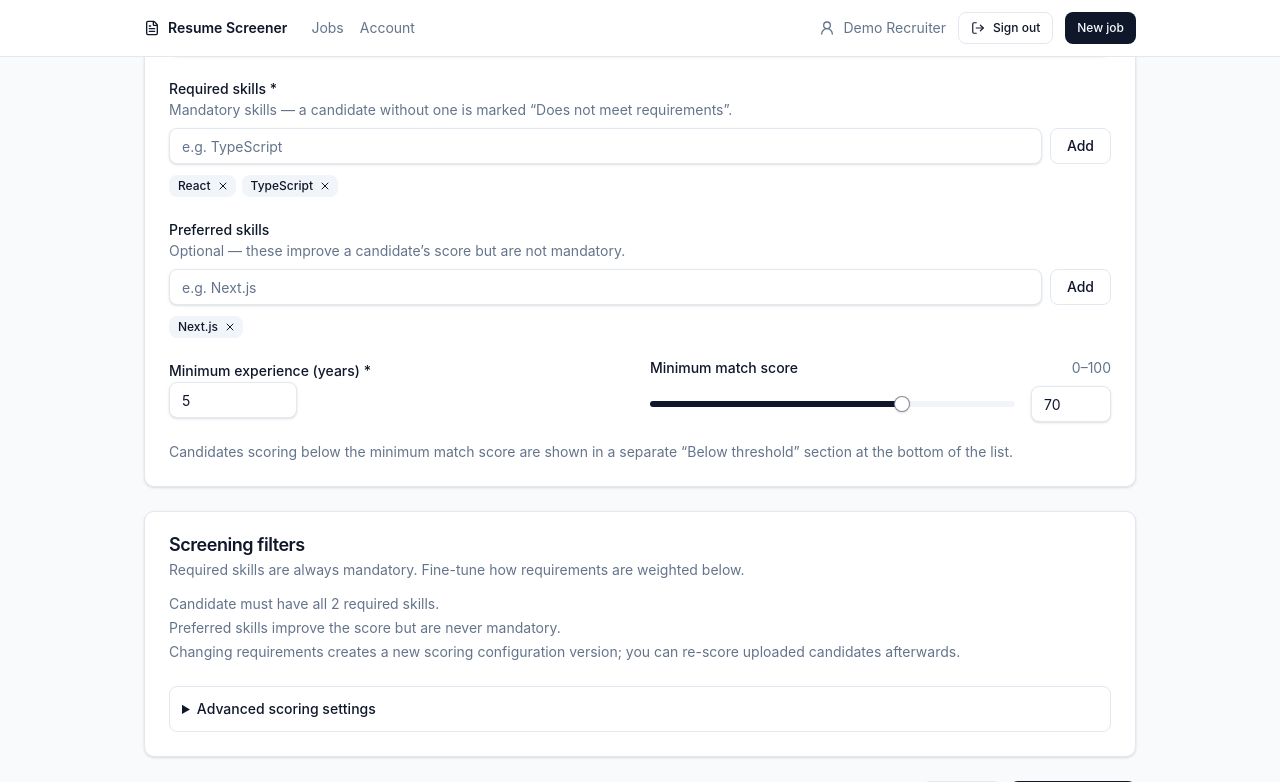
Scenario: job workflows › edits requirements and offers to re-score candidates
(page scrolled)
Replace the text in the number field labelled "Minimum experience (years) *" with "6". click: (233, 400)
box: [169, 382, 297, 418]
(page scrolled)
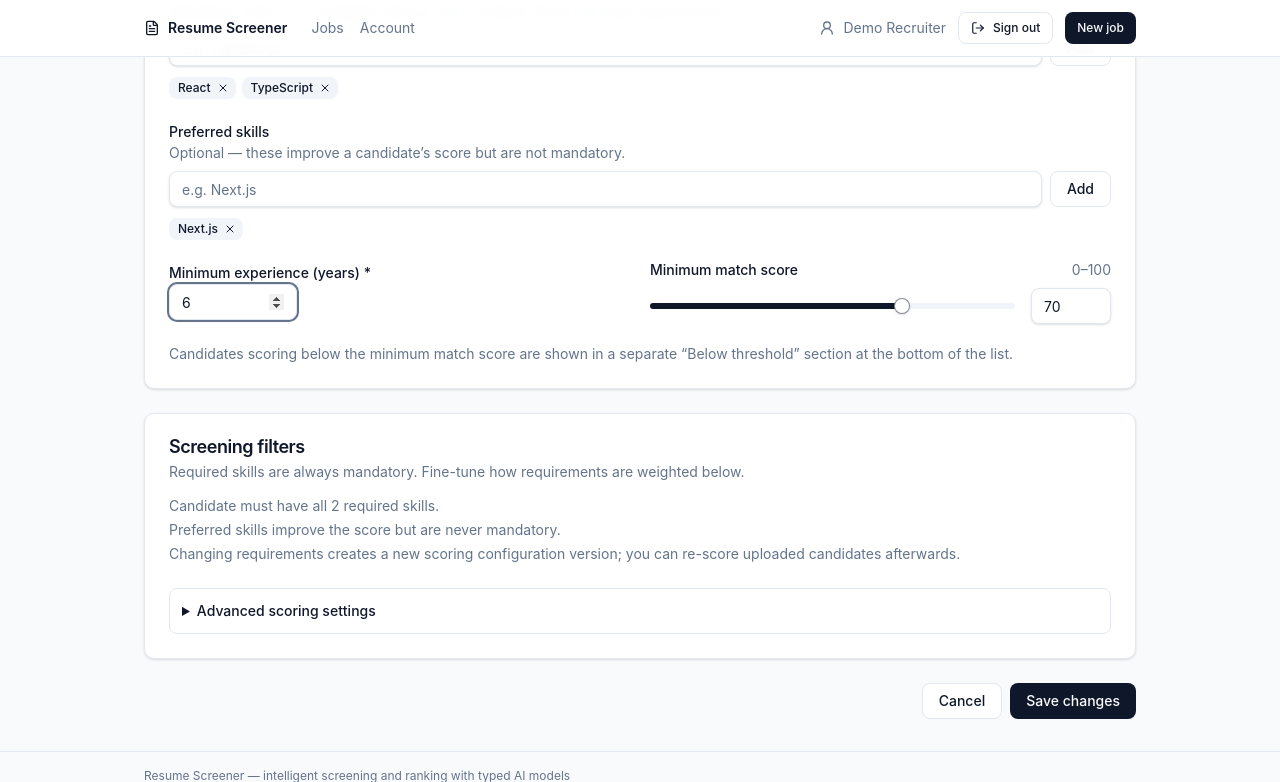
Click the button "Save changes". click: (1073, 701)
box: [1010, 683, 1136, 719]
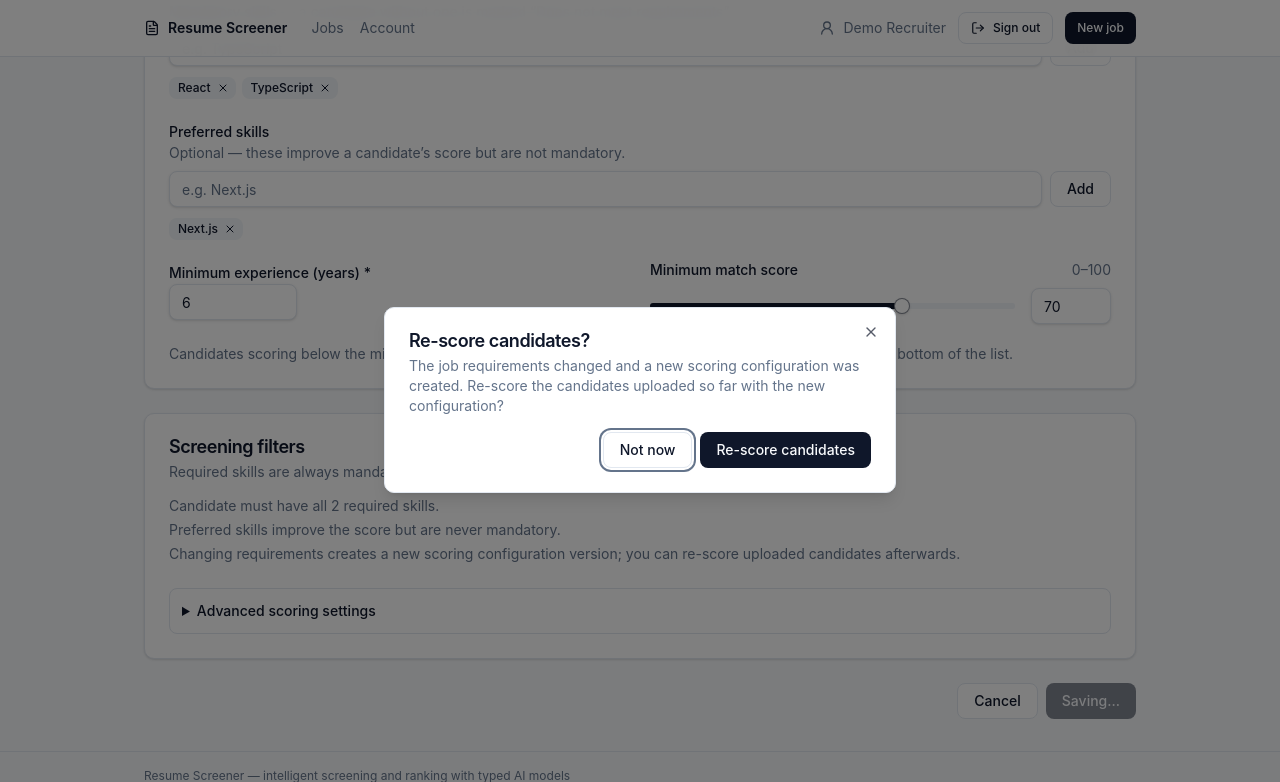
Check: the heading "Re-score candidates?" is shown, box [409, 330, 590, 351]
Click the button "Re-score candidates". click: (786, 450)
box: [700, 432, 871, 468]
(page scrolled)
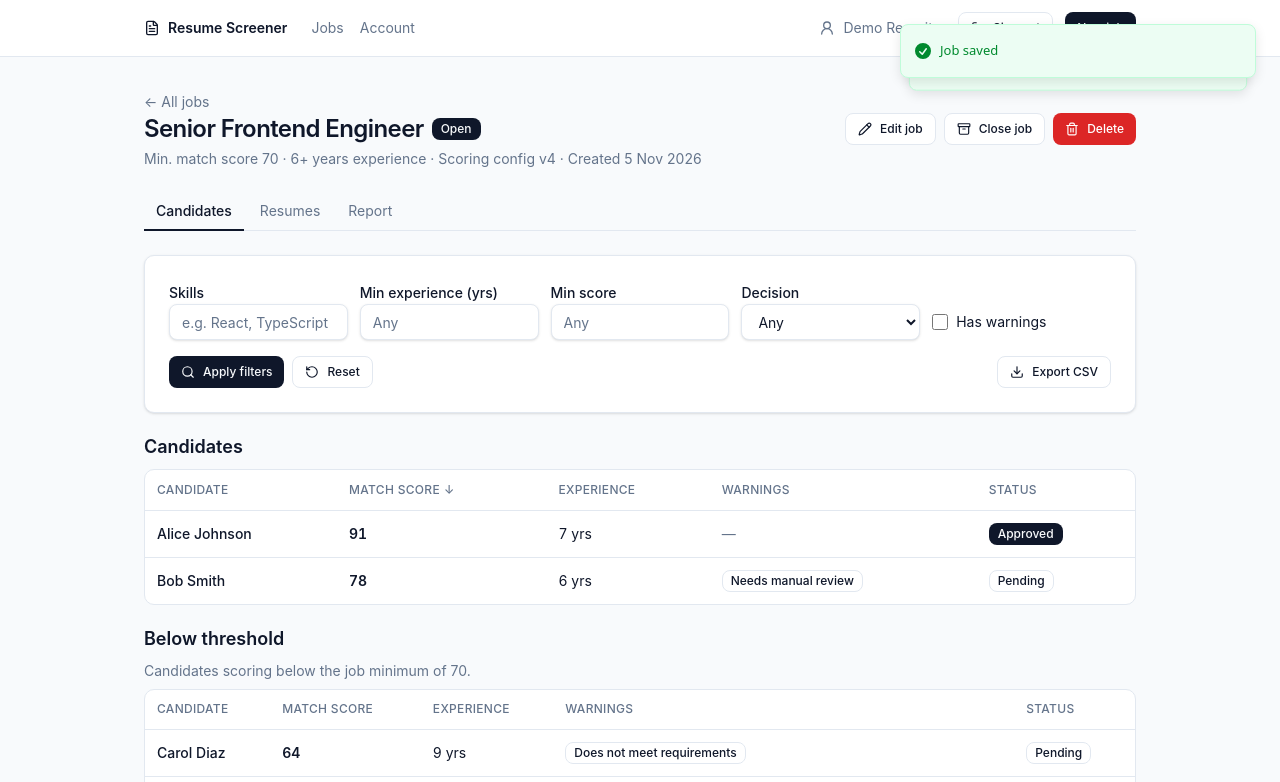
Check: the heading "Senior Frontend Engineer" is shown, box [144, 113, 424, 145]
Check: the text "Scoring config v4" is shown, box [144, 149, 702, 169]
